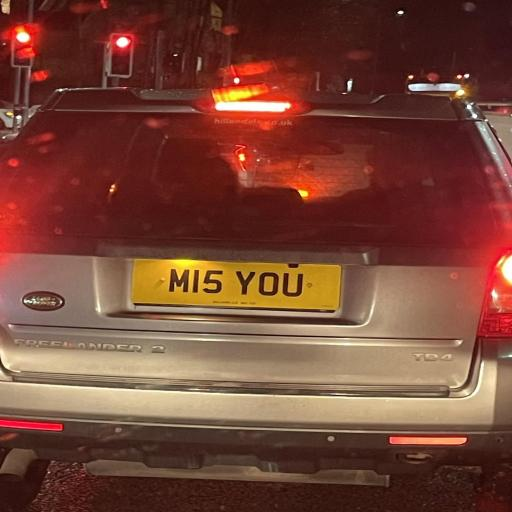numberplates: (132, 260, 341, 310)
